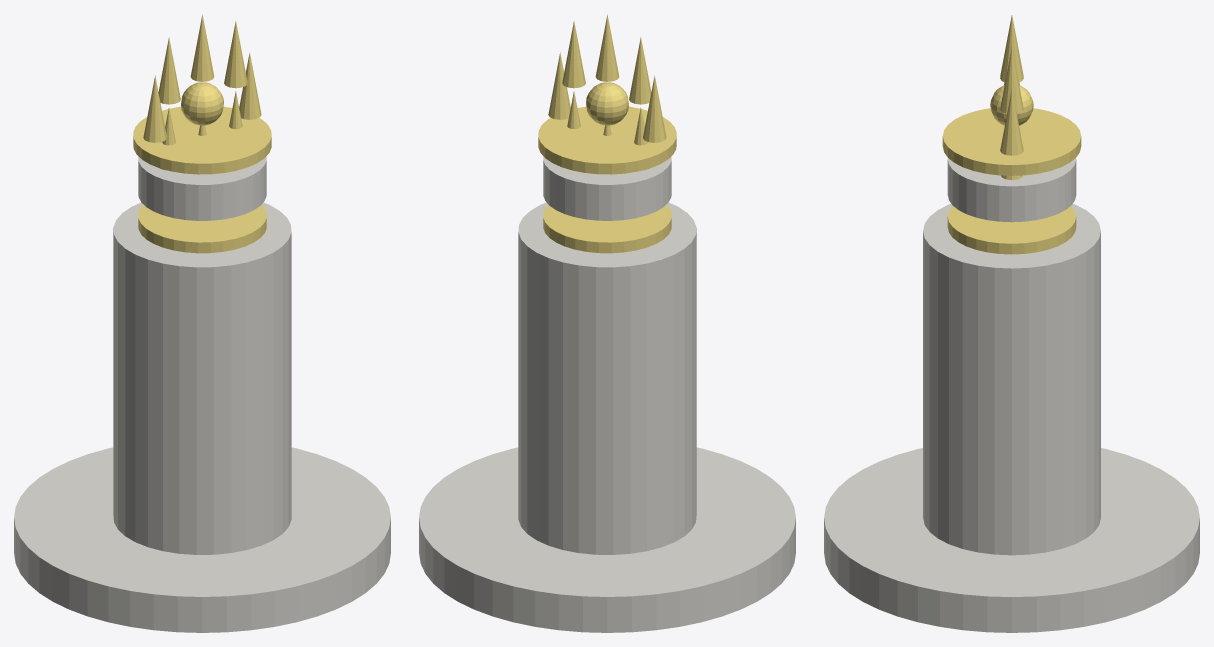
3 renders of one model, left to right at view 1: azimuth 30°, elevation 25°; view 2: azimuth 150°, elevation 25°; view 3: azimuth 270°, elevation 25°, orthographic.
Visible parts, largest first — view 1: queen_base; view 2: queen_base; view 3: queen_base.
Boxes of the visible parts, x1,y1,x2,y2 form: queen_base: (14, 14, 390, 632); queen_base: (419, 14, 795, 632); queen_base: (824, 15, 1199, 632).
Bounding box in the file's own units: 0.38 × 0.6 × 0.38.
